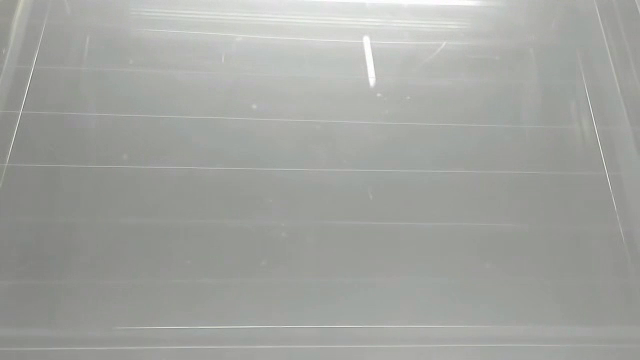alpha: (360, 33, 381, 90)
